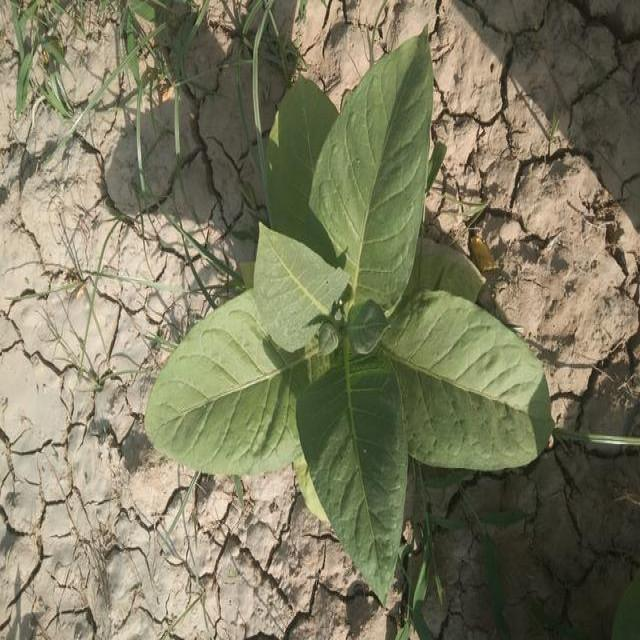crop: (150, 38, 555, 598)
